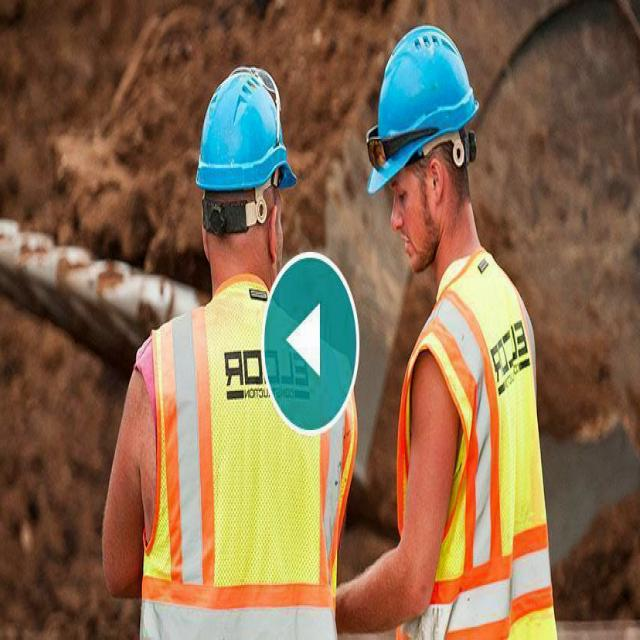face_nomask: (387, 155, 432, 269)
head_helmet: (361, 13, 487, 190), (198, 46, 303, 187)
person: (98, 7, 358, 637), (362, 2, 555, 624)
vest: (134, 284, 341, 634), (401, 236, 540, 631)
